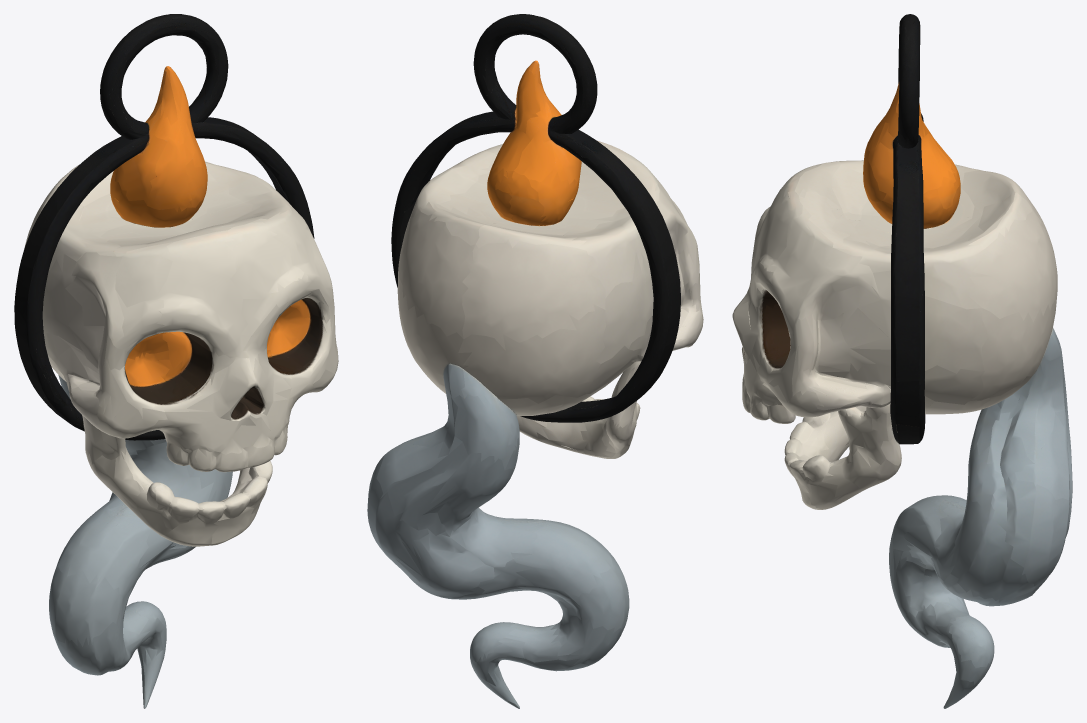
The picture shows the model from 3 angles, left to right: view 1: azimuth 30°, elevation 25°; view 2: azimuth 150°, elevation 25°; view 3: azimuth 270°, elevation 25°; orthographic projection. The views are drawn at different scales.
Size of the model in its own units: 0.8145 by 1.9 by 0.8514.
Materials: 1 (1 with a texture image).
